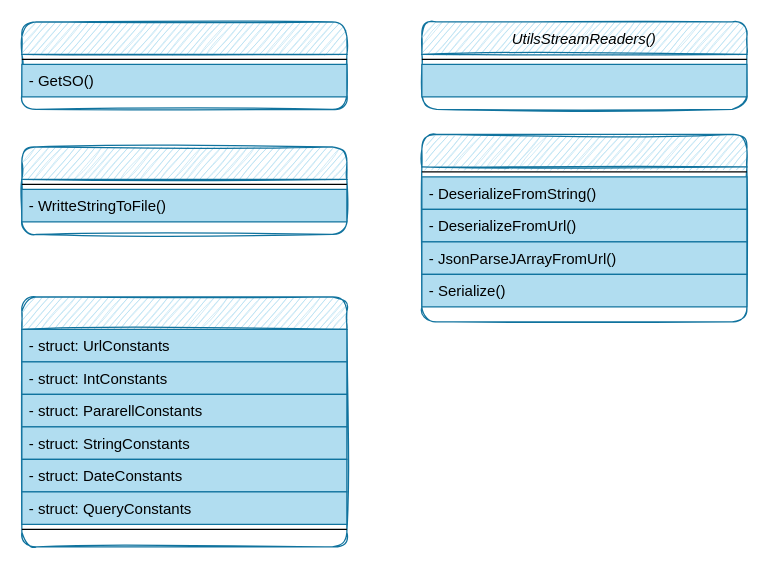
The diagram is 769 pixels wide and 568 high, and some of its shapes have lost their labels. The box of each missing label's shape, as (x1, y1, x2, y2) in pixels:
- ReadStreamFile(): (421, 63, 747, 97)
UtilsConstants: (21, 296, 347, 547)
UtilsJSON: (421, 133, 747, 322)
UtilsSO: (21, 21, 347, 109)
UtilsStreamWritters: (21, 146, 347, 234)
